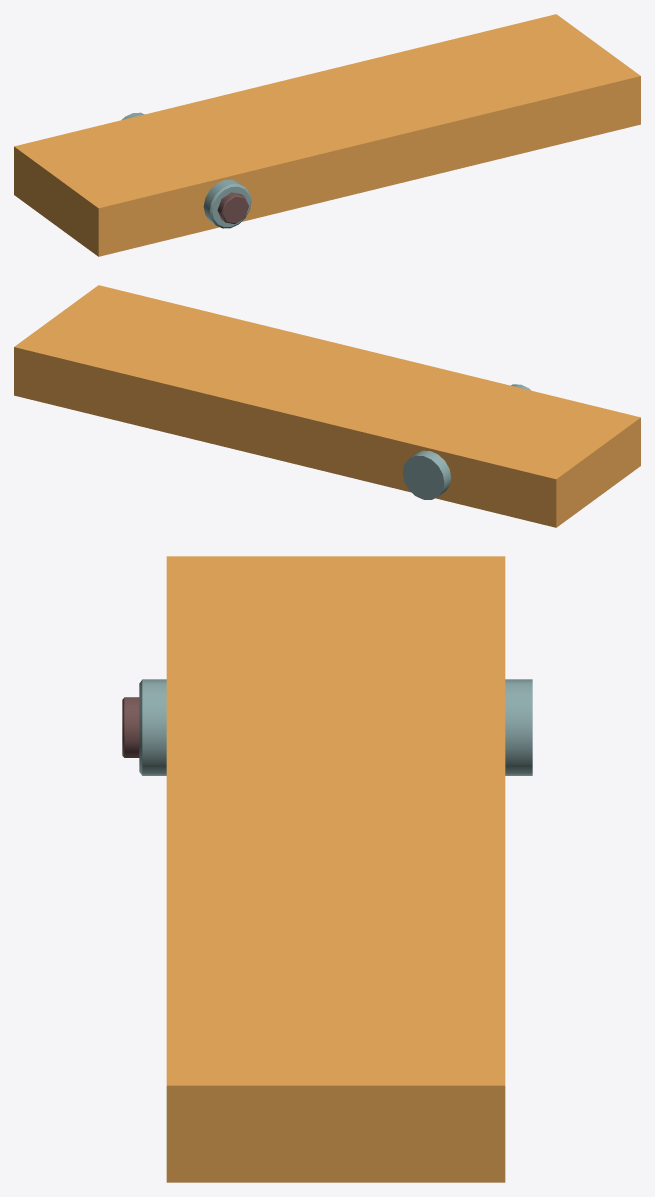
The model's file is muban@buduichen.FBX.
The picture shows the model from 3 angles, top to bottom: view 1: azimuth 30°, elevation 25°; view 2: azimuth 150°, elevation 25°; view 3: azimuth 270°, elevation 25°; orthographic projection. The views are drawn at different scales.
Visible parts, largest first — view 1: 非对称轴木板; view 2: 非对称轴木板; view 3: 非对称轴木板.
Part boxes in pixels (x1,y1,x2,y2): 非对称轴木板: (14, 14, 640, 256); 非对称轴木板: (14, 285, 640, 527); 非对称轴木板: (122, 556, 532, 1182).
Bounding box in the file's own units: 227 × 19.4 × 74.32.
